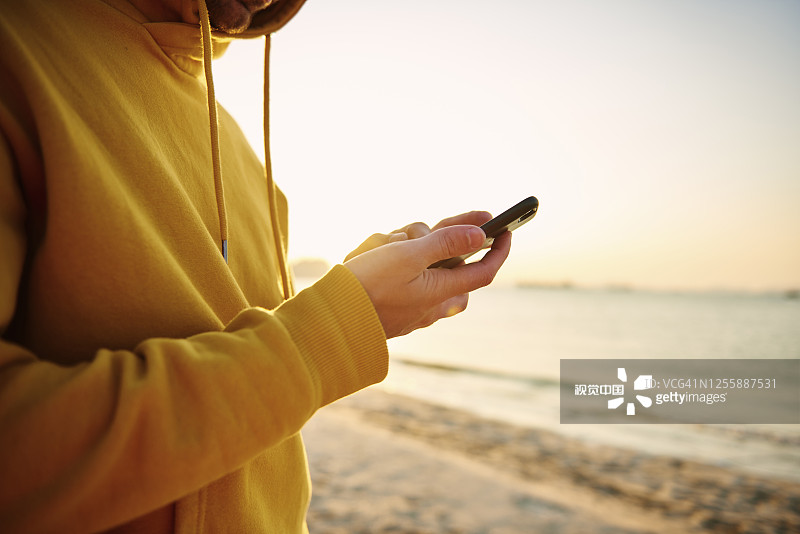reading: (319, 169, 541, 345)
